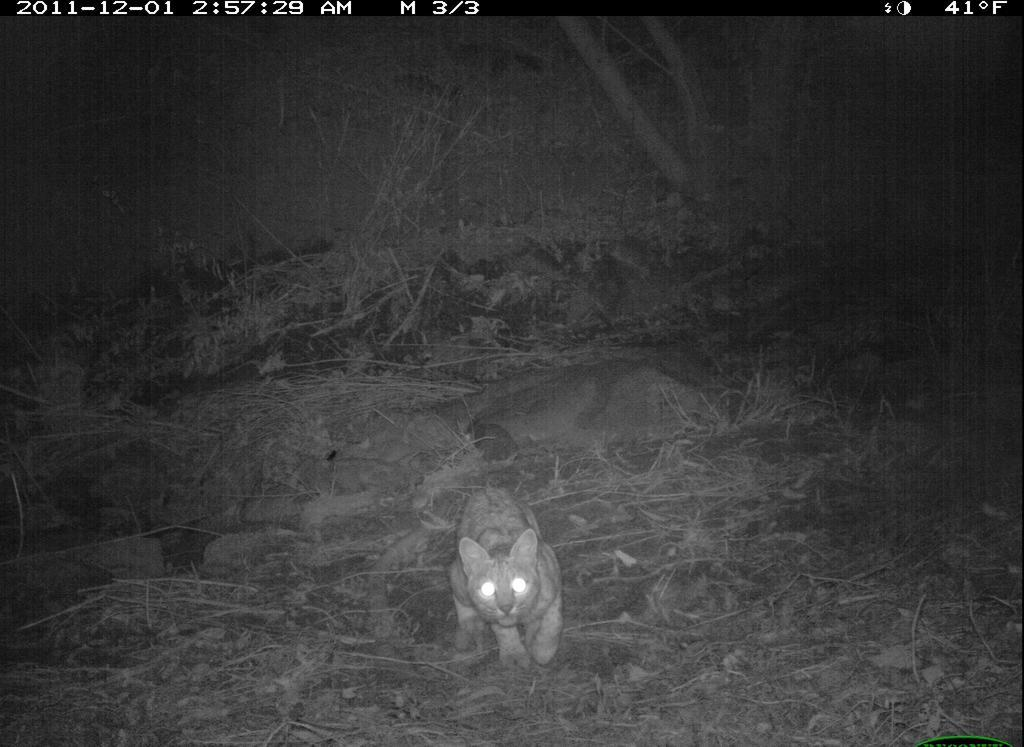bobcat: (440, 478, 574, 687)
